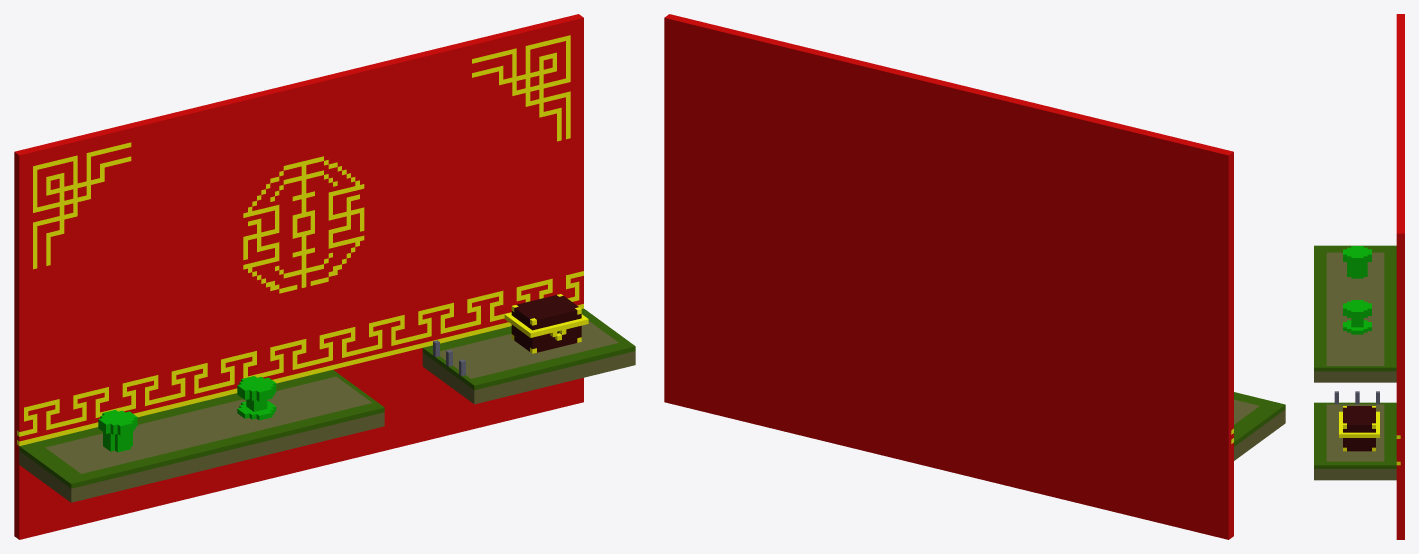
File: chinasence finall.obj
3 views of the same model, side by side, from view 1: azimuth 30°, elevation 25°; view 2: azimuth 150°, elevation 25°; view 3: azimuth 270°, elevation 25° (orthographic). The views are drawn at different scales.
Parts seen in each view (by area): view 1: chinasence finall; view 2: chinasence finall; view 3: chinasence finall.
Boxes of the visible parts, x1=… form: chinasence finall: x1=14, y1=14, x2=635, y2=539; chinasence finall: x1=664, y1=14, x2=1285, y2=539; chinasence finall: x1=1314, y1=14, x2=1404, y2=539.
Size of the model in its own units: 126 by 82 by 22.
1 material, 1 textured.
